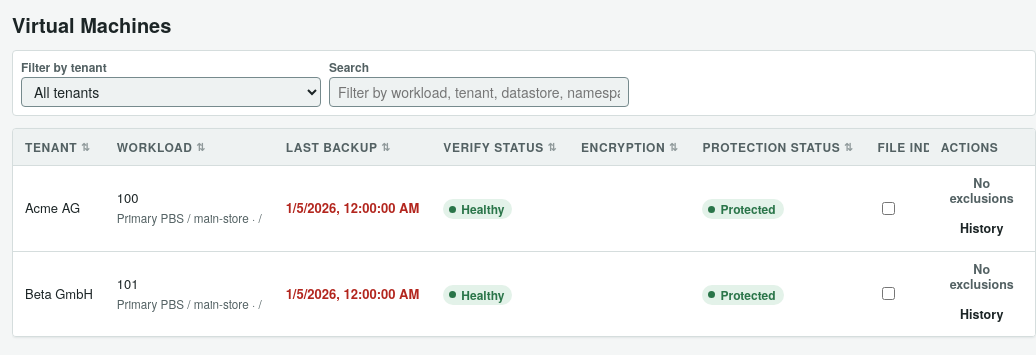
ProtectedWorkloadsPage › shows a distinct empty state when a search matches nothing
Check: the text "100" is shown, box [117, 188, 138, 207]
Step 1. Type "does-not-exist-anywhere" into the field labelled "Search" → (479, 92), box [329, 77, 629, 107]
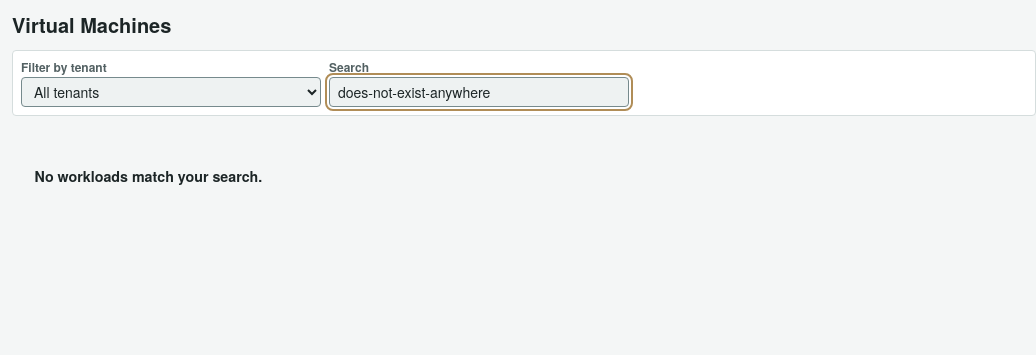
Check: the text "No workloads match your search." is shown, box [34, 166, 262, 186]
